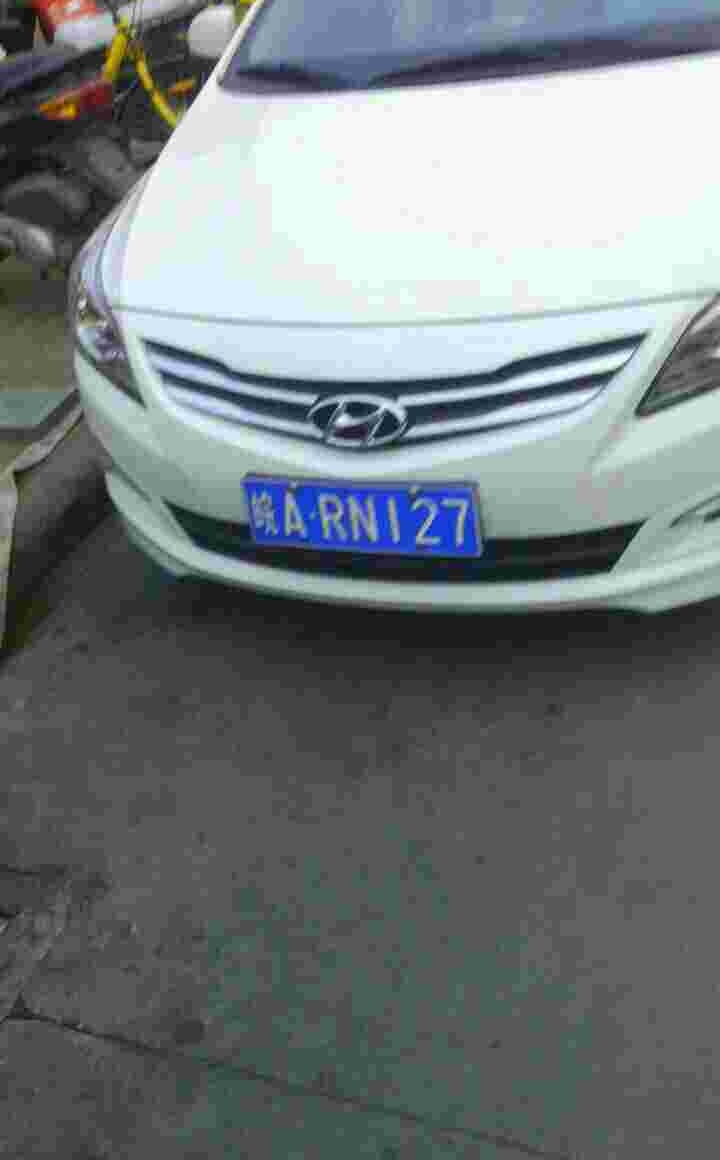plate: (237, 475, 488, 561)
